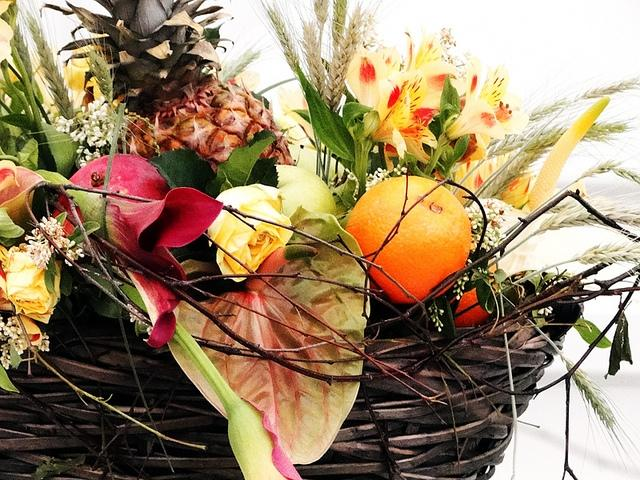apple: (70, 154, 170, 200)
orange: (345, 176, 471, 304), (454, 278, 497, 327)
pineapple: (41, 0, 296, 177)
